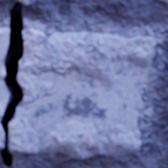brick: (14, 0, 34, 5)
broken_brick: (8, 29, 155, 159), (0, 28, 9, 119), (0, 124, 3, 149)
crack: (0, 2, 24, 166), (44, 34, 47, 41)
